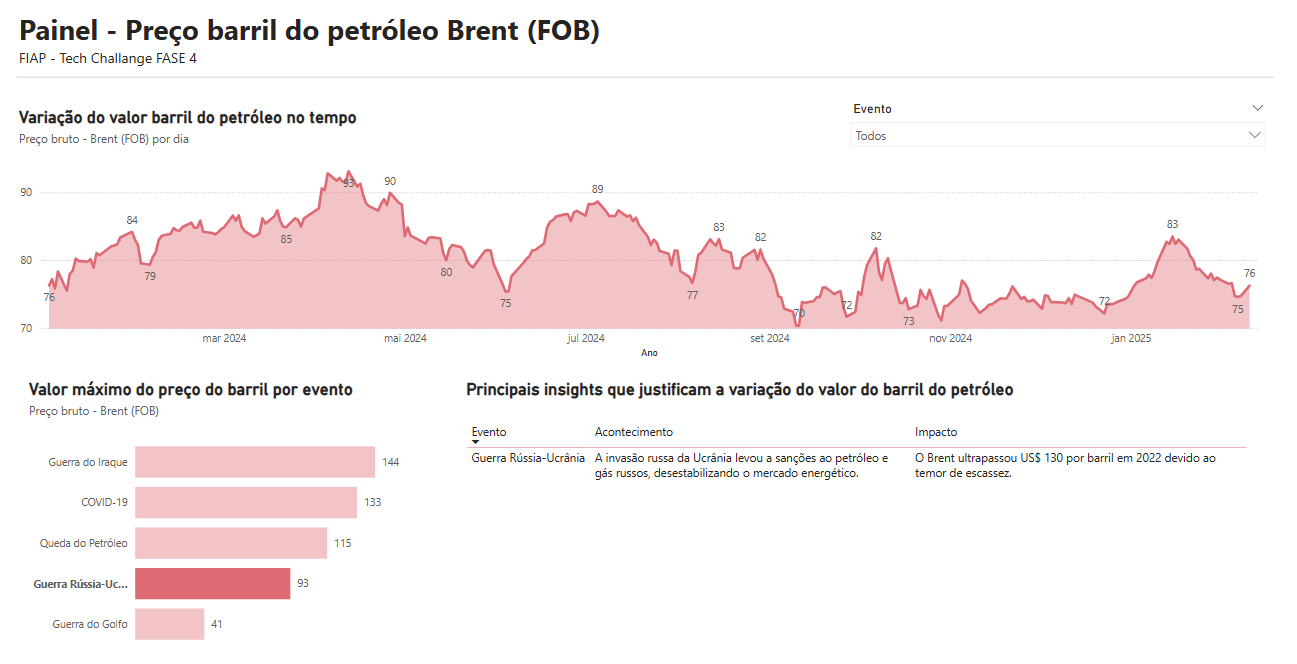

What the dashboard file says about the page in this screenshot:
{"tool":"powerbi","page":{"name":"Página 1","canvas":[1500,775],"ordinal":0},"visuals":[{"type":"areaChart","title":"Variação do valor barril do petróleo no tempo","fields":{"Y":["Sum(Planilha3.Preço - petróleo bruto - Brent (FOB))"],"Category":["Planilha3.Data.Variation.Hierarquia de datas.Ano","Planilha3.Data.Variation.Hierarquia de datas.Trimestre","Planilha3.Data.Variation.Hierarquia de datas.Mês","Planilha3.Data.Variation.Hierarquia de datas.Dia"]},"box":[24.3,127.1,1440,291.4],"z":0},{"type":"slicer","fields":{"Values":["Planilha3.evento"]},"box":[970.1,98.5,494.1,83.3],"z":1000},{"type":"clusteredBarChart","title":"Valor máximo do preço do barril  por evento","fields":{"Category":["Planilha3.evento"],"Y":["Max(Planilha3.Preço - petróleo bruto - Brent (FOB))"]},"box":[35.4,438.8,456.5,321.6],"z":2000},{"type":"tableEx","title":"Principais insights que justificam a variação do valor do barril do petróleo","fields":{"Values":["Planilha3.evento","Planilha3.Acontecimento","Planilha3.impacto"]},"box":[535.7,438.6,928.6,321.4],"z":3000},{"type":"textbox","box":[24.3,11.4,1440,87.1],"z":4000},{"type":"shape","box":[27.1,64.3,1437.1,57.1],"z":5000},{"type":"slicer","fields":{"Values":["Planilha3.Data"]},"box":[508,98.5,462.2,87.4],"z":5001}]}

Visuals, with their boxes in screenshot pixels (x1, y1, x2, y2), scaled from the page's 1500x775 canvas onto the 1297x664 screenshot:
"Variação do valor barril do petróleo no tempo" areaChart: select_region(21, 109, 1266, 359)
slicer - Planilha3.evento: select_region(839, 84, 1266, 156)
"Valor máximo do preço do barril  por evento" clusteredBarChart: select_region(31, 376, 425, 651)
"Principais insights que justificam a variação do valor do barril do petróleo" tableEx: select_region(463, 376, 1266, 651)
textbox: select_region(21, 10, 1266, 84)
shape: select_region(23, 55, 1266, 104)
slicer - Planilha3.Data: select_region(439, 84, 839, 159)
